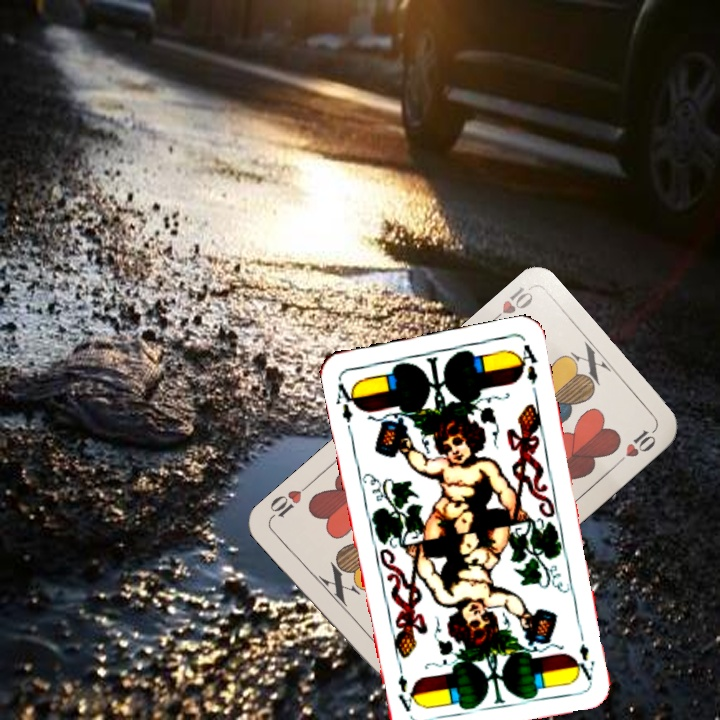EA: (332, 376, 361, 435), (572, 624, 597, 683)
H10: (484, 282, 536, 328)
